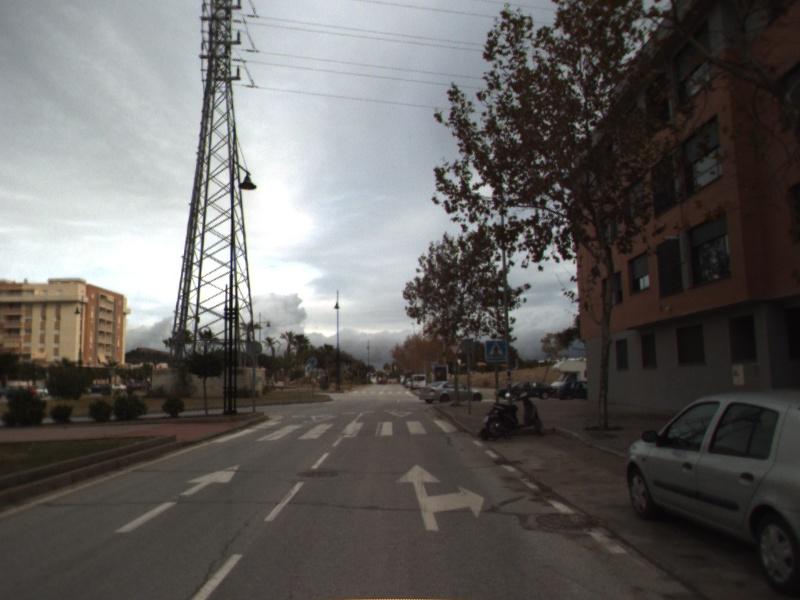STRAIGHT: (113, 462, 242, 535)
STRAIGHT_RIGHT: (393, 462, 486, 532)
